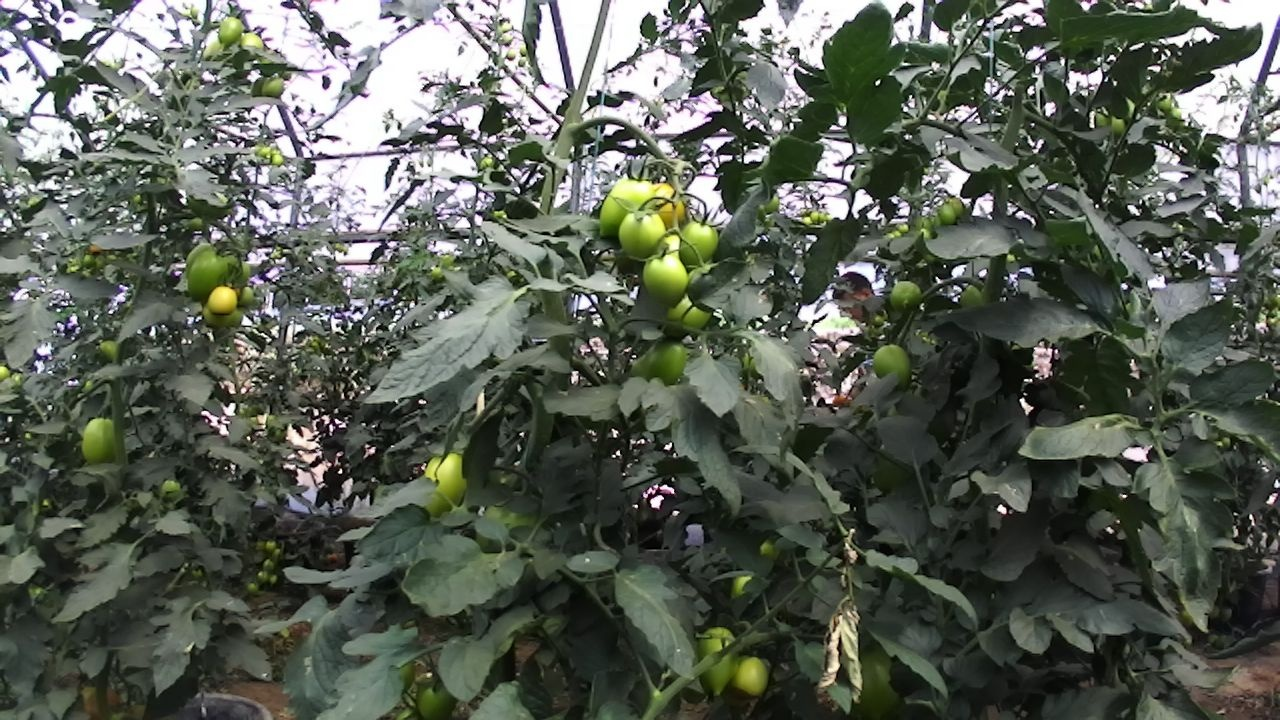tomato: (829, 634, 926, 720), (407, 433, 487, 527), (587, 163, 664, 251), (685, 616, 751, 706), (623, 328, 693, 400), (70, 404, 137, 478), (403, 657, 474, 720), (637, 170, 699, 242), (660, 276, 723, 345), (637, 246, 698, 315), (614, 201, 673, 271), (722, 639, 779, 707), (674, 208, 730, 277), (861, 336, 923, 396), (185, 243, 235, 308), (880, 272, 935, 323), (195, 294, 249, 339), (1089, 97, 1134, 145), (200, 277, 245, 323), (150, 468, 192, 513), (213, 6, 250, 51), (233, 25, 268, 65), (74, 245, 105, 277), (259, 72, 291, 103), (935, 197, 960, 229), (234, 279, 259, 309), (97, 336, 123, 363), (945, 192, 970, 220), (497, 28, 518, 48), (243, 577, 262, 597), (262, 537, 280, 556), (268, 149, 285, 169), (259, 556, 277, 574), (502, 44, 519, 62), (255, 567, 271, 584), (514, 53, 529, 69)
